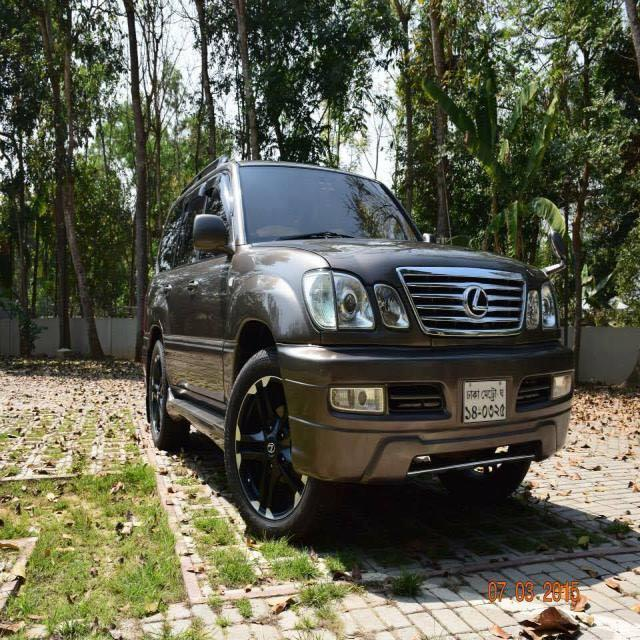numberplate: (461, 377, 507, 424)
